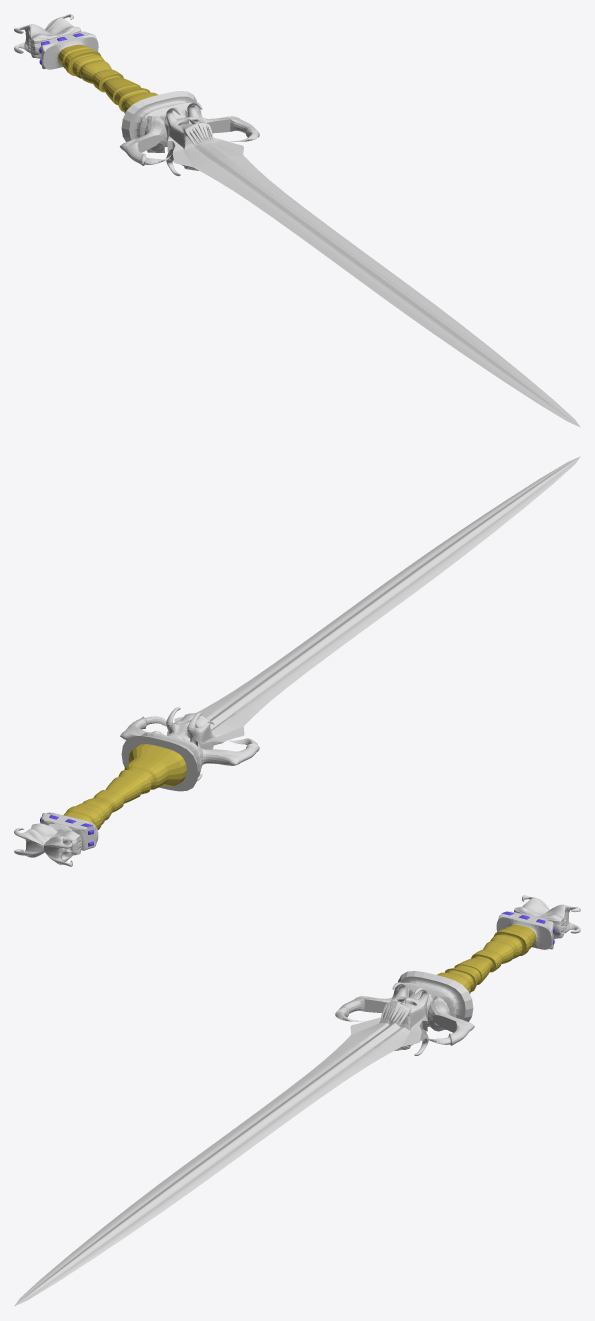
File: deamonblade.fbx
3 renders of one model, top to bottom at view 1: azimuth 30°, elevation 25°; view 2: azimuth 150°, elevation 25°; view 3: azimuth 330°, elevation 25°, orthographic.
Parts seen in each view (by area): view 1: Cube; view 2: Cube; view 3: Cube.
Part boxes in pixels (<box>): Cube: <box>14,14,580,427</box>; Cube: <box>14,456,580,866</box>; Cube: <box>14,895,580,1306</box>.
Size of the model in its own units: 146 by 76.24 by 1118.
